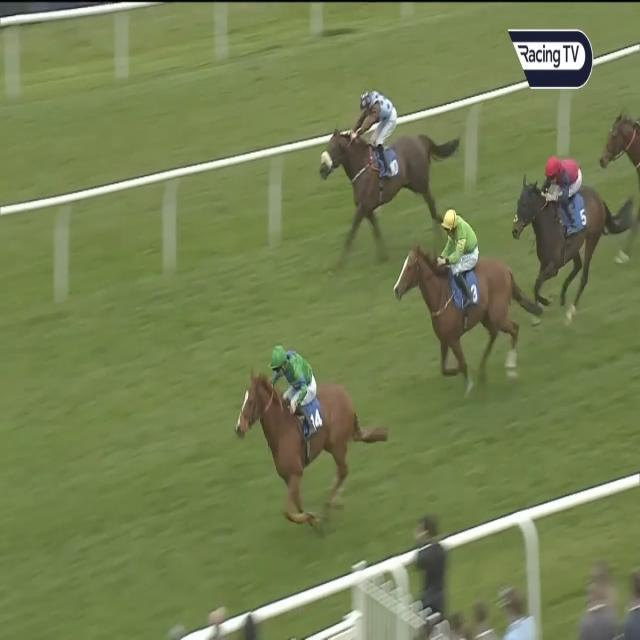horses-racing: (235, 343, 368, 522), (392, 204, 520, 383), (318, 81, 443, 226), (514, 148, 606, 330), (603, 99, 640, 201)
